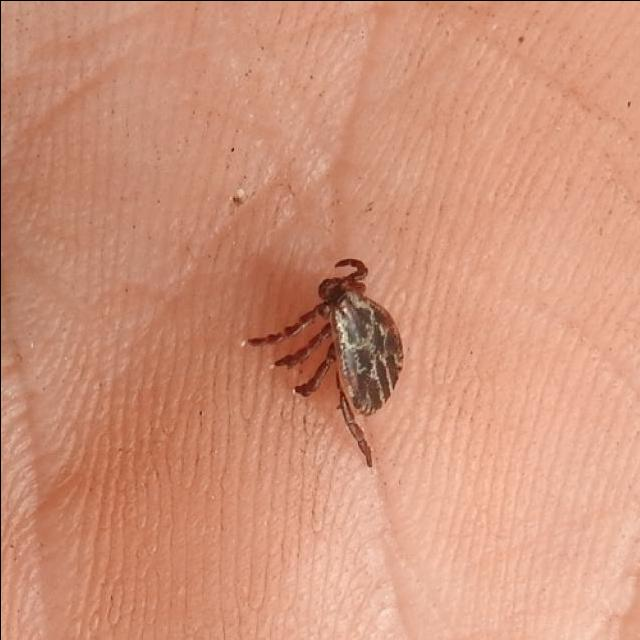Dermacentor Reticulatus-M: (247, 255, 403, 466)
